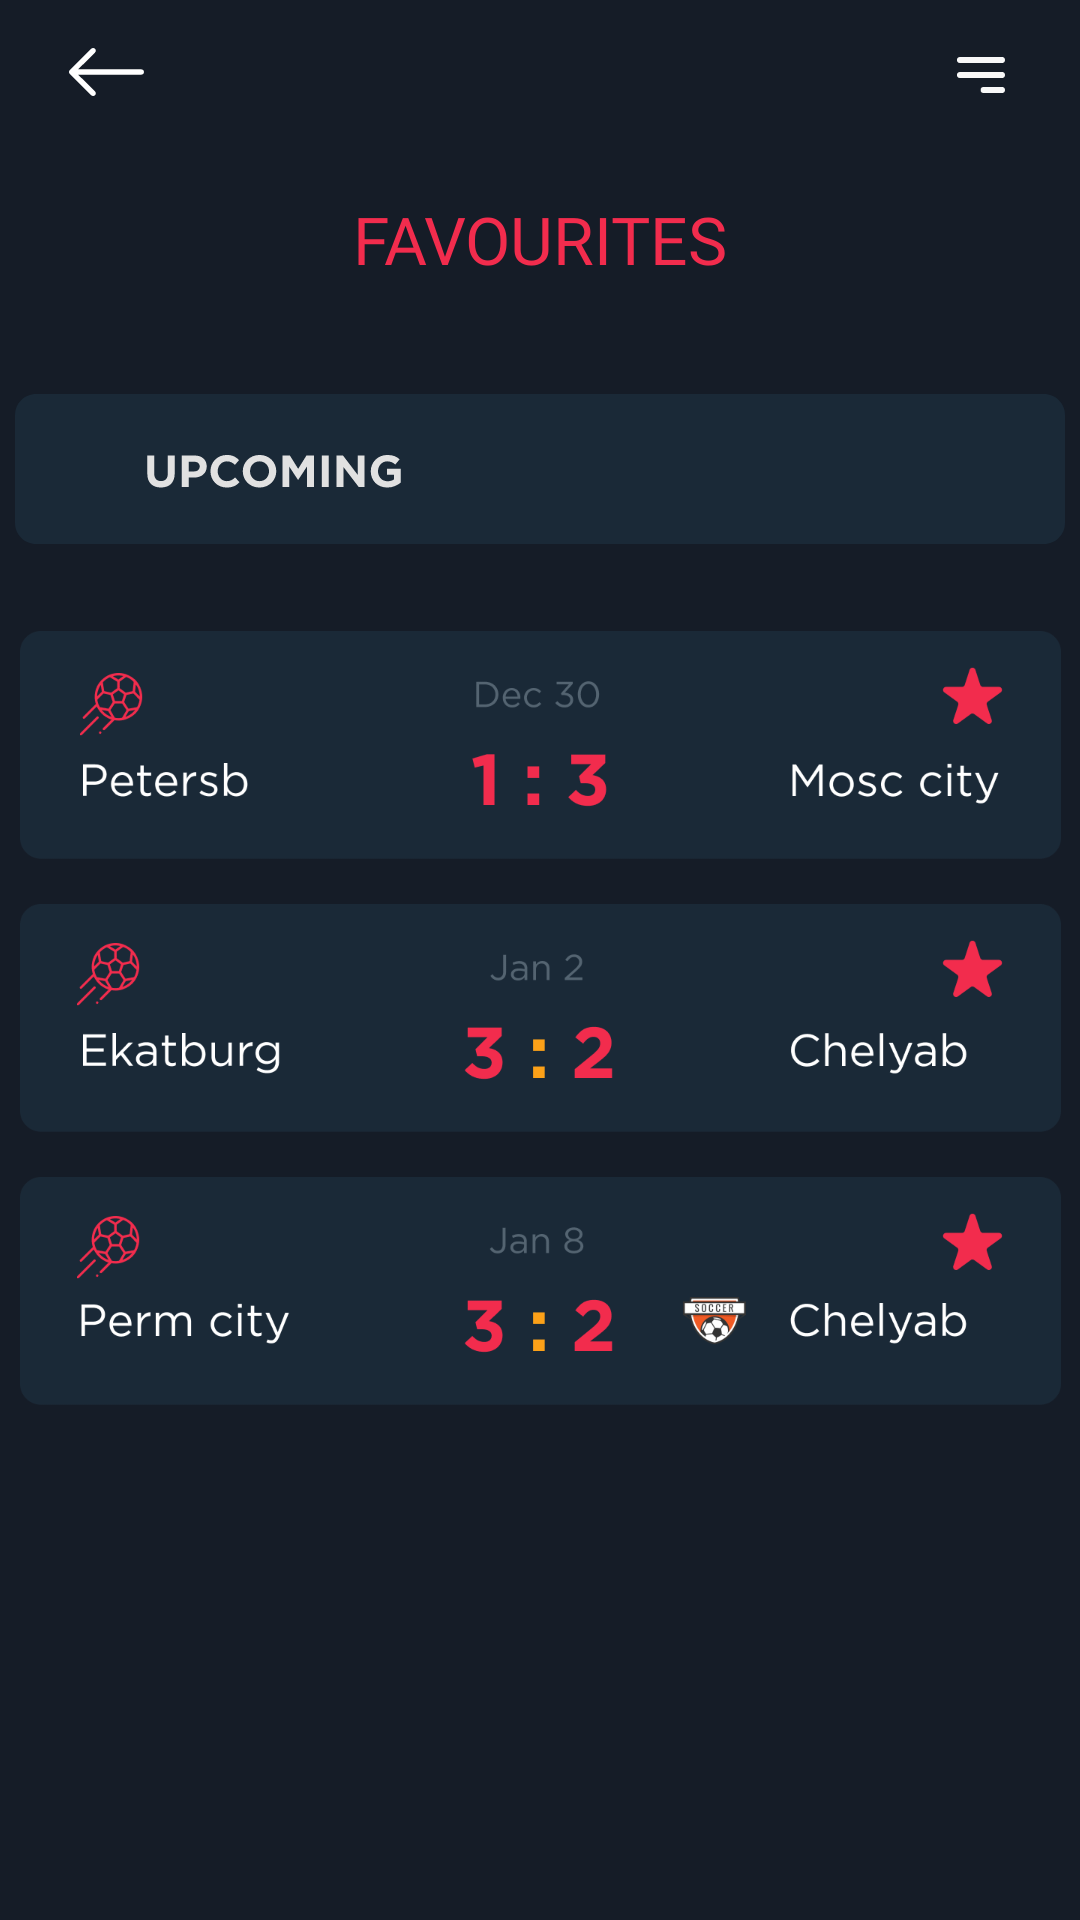

Icons on this 1080w x 1920h Android screen, each with the point to tap as (x,y):
back: (106,72)
